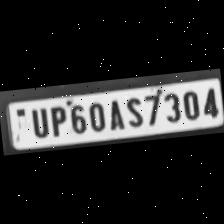0: (84, 99, 107, 133), (178, 87, 201, 121)
3: (160, 90, 182, 124)
4: (198, 85, 220, 119)
6: (66, 101, 88, 136)
7: (142, 91, 162, 127)
A: (104, 96, 124, 132)
P: (46, 104, 67, 138)
S: (122, 93, 144, 129)
U: (26, 105, 49, 139)
